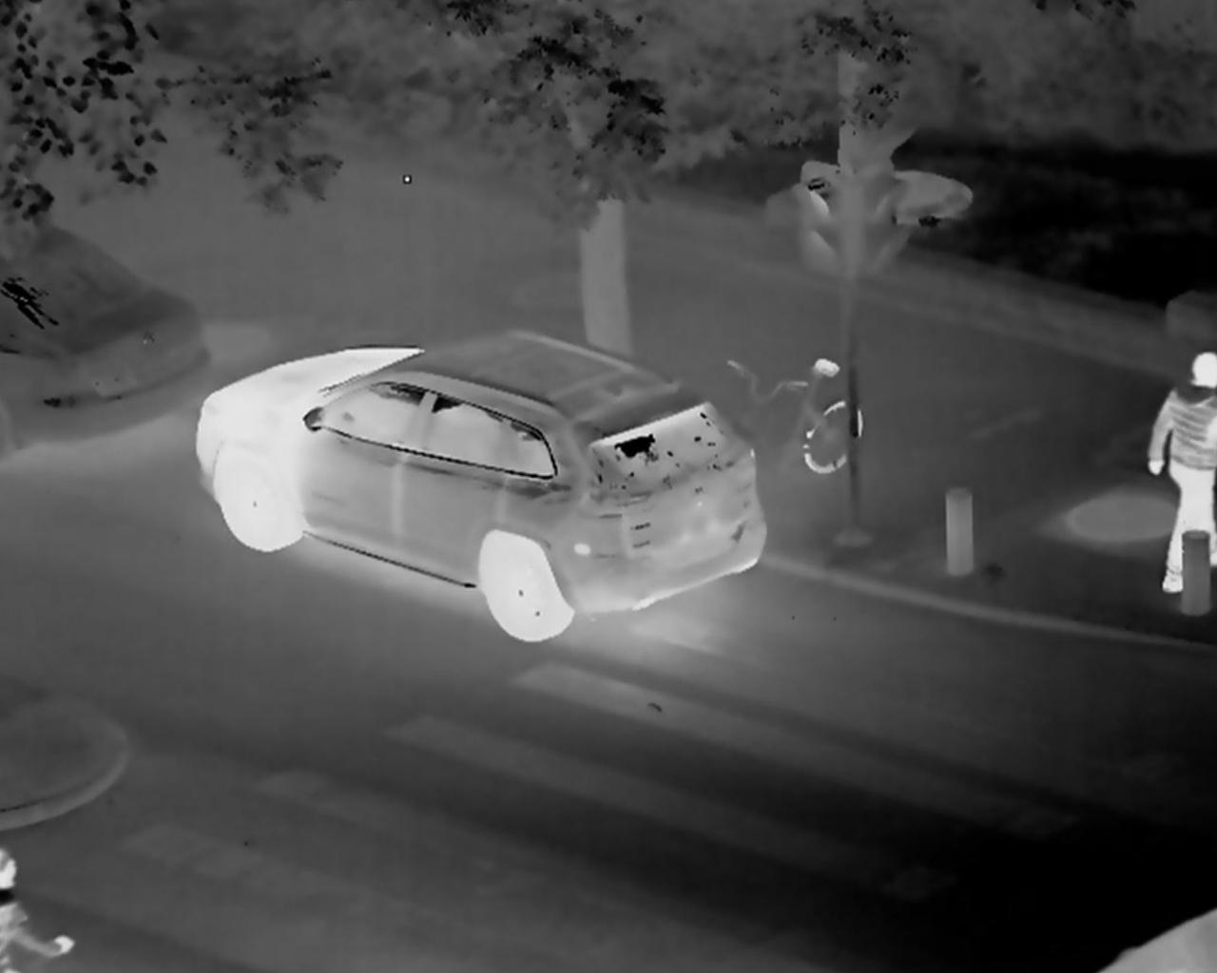person: (1147, 349, 1216, 593)
